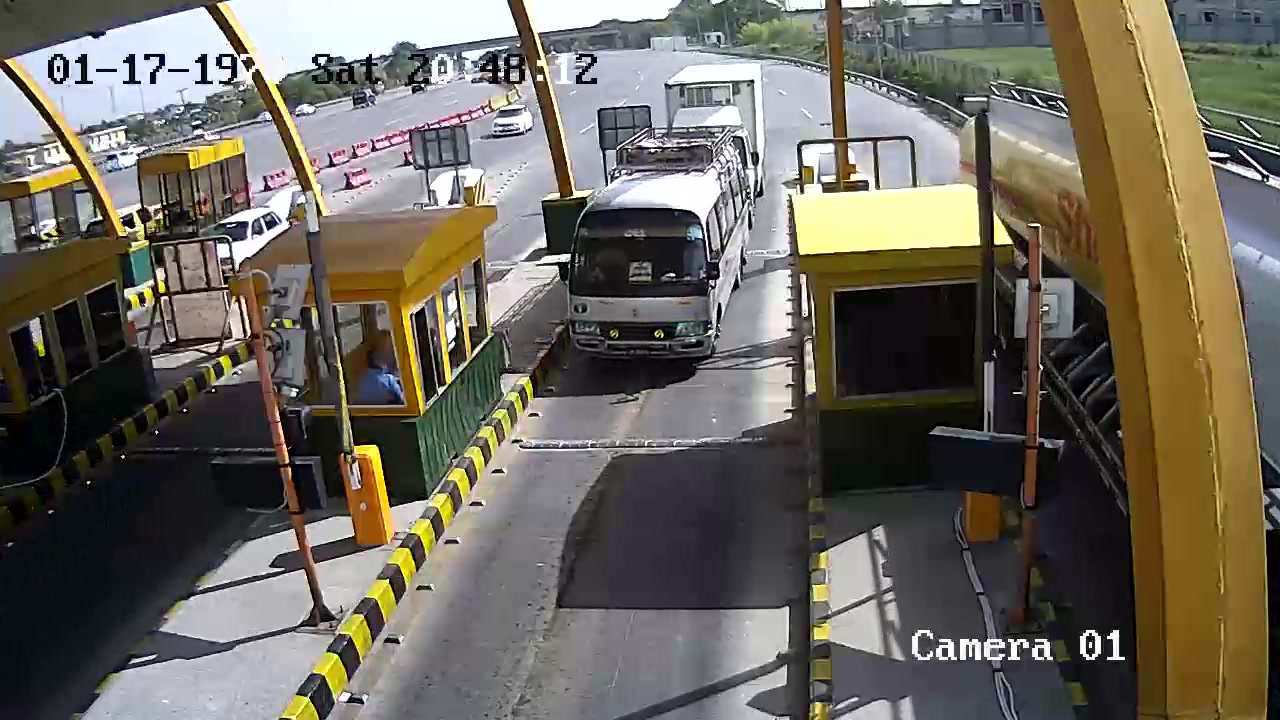F3: (562, 128, 749, 367)
